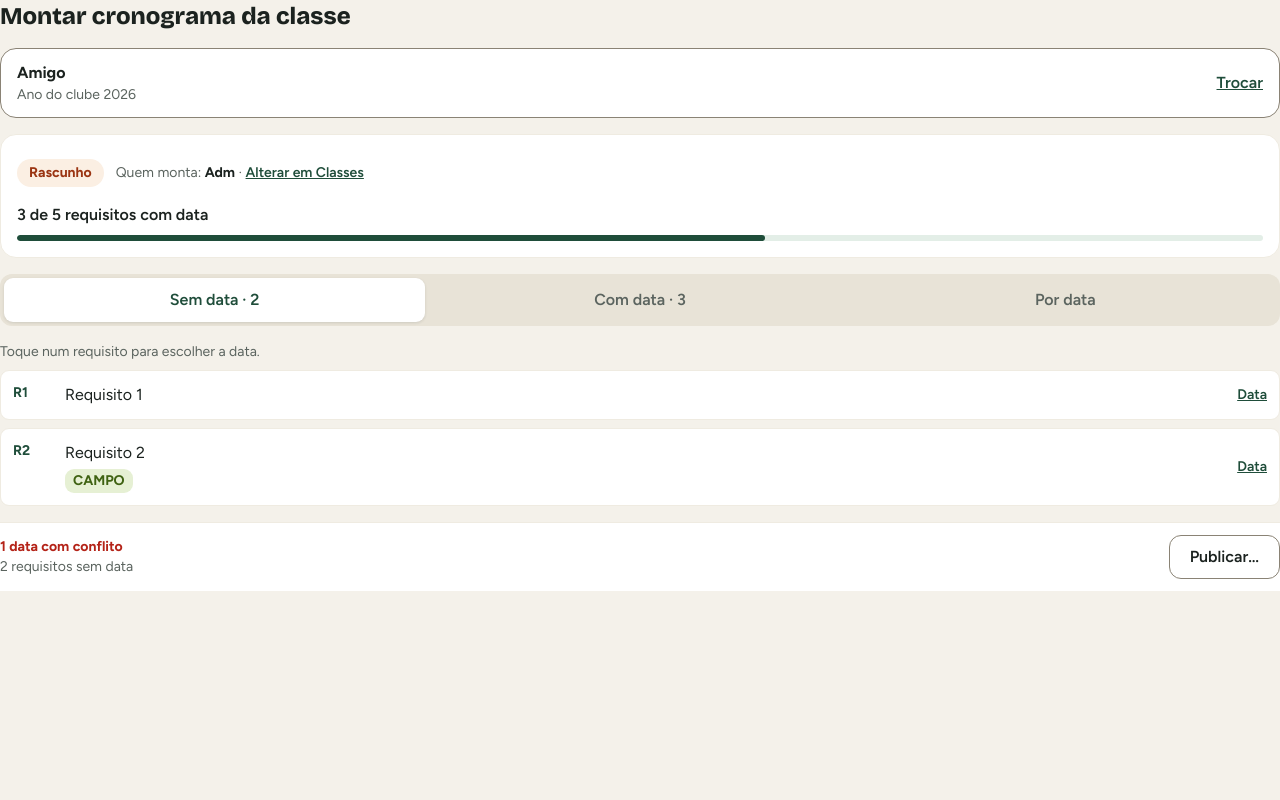
Test: A7 celular · folha "Em qual data?" › desmarcar a caixa mostra as datas que não aceitam, desligadas e com o motivo
Expected: the text "3 de 5 requisitos com data" is shown, left=17, top=205, right=208, bottom=224
Click the button "R1 Requisito 1 Data": (104, 394) left=0, top=370, right=1279, bottom=420
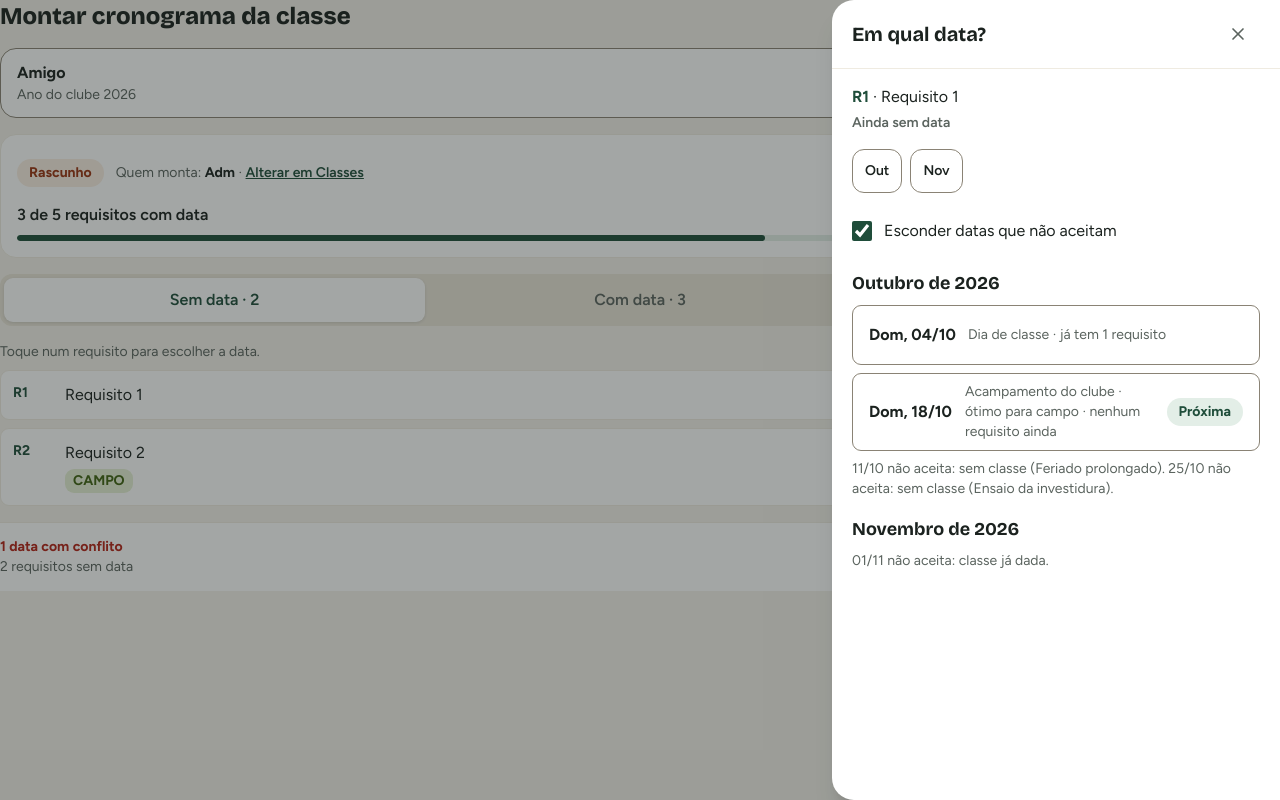
Click the checkbox labelled "Esconder datas que não aceitam": (862, 231) left=852, top=221, right=872, bottom=241
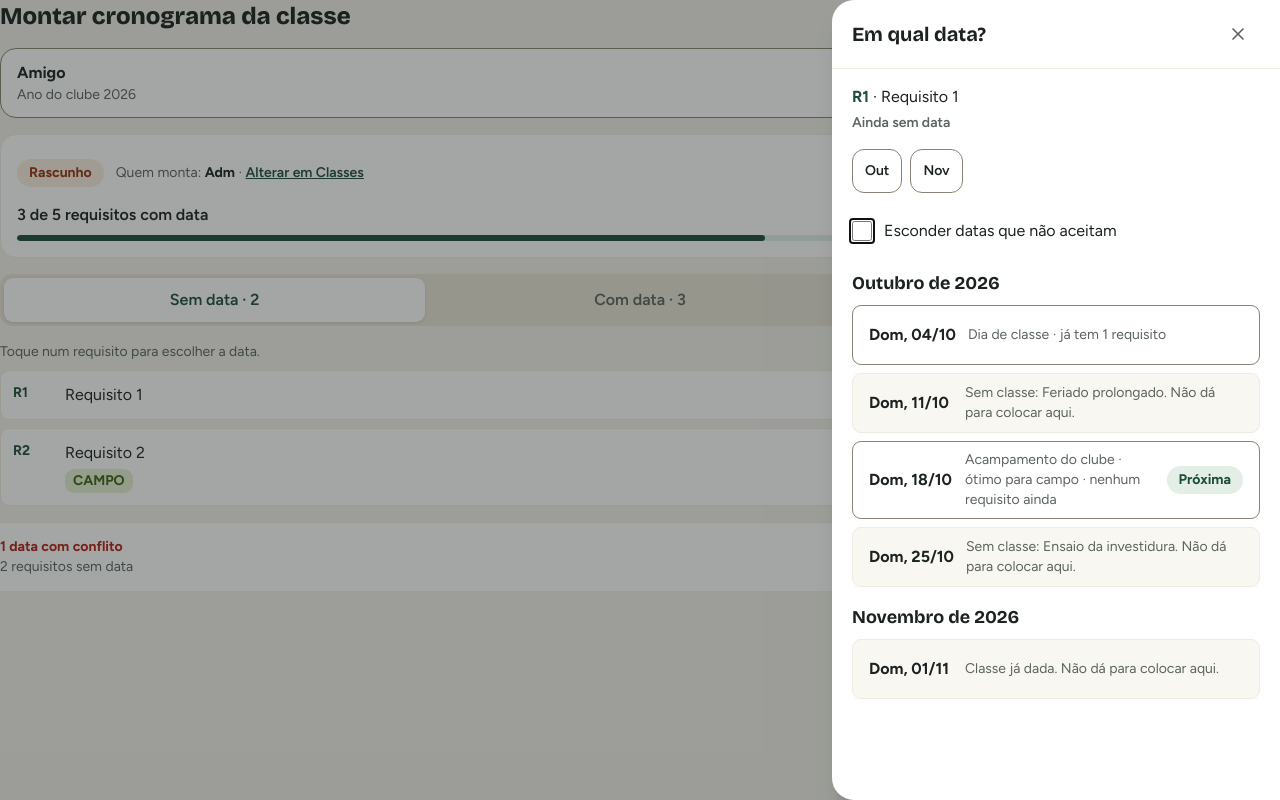
Expected: the button "11/10" is disabled, left=852, top=373, right=1260, bottom=433
Expected: the dialog "Em qual data?" no longer shows "não aceita:", left=832, top=0, right=1279, bottom=799
